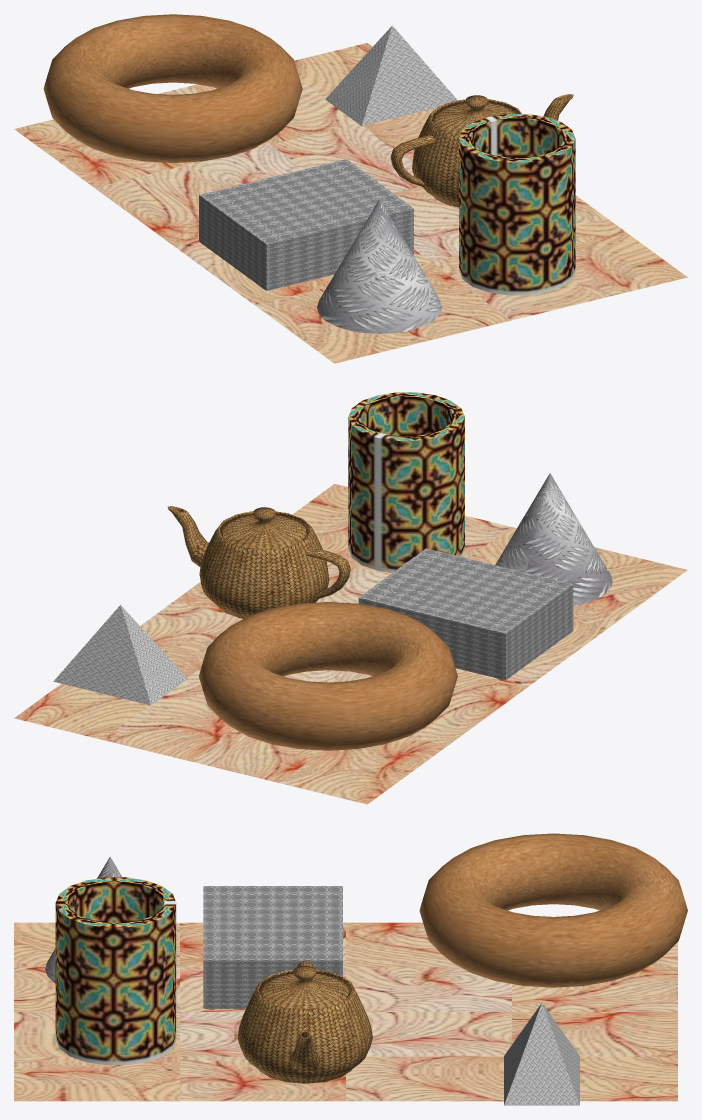
File: escena3.dae
3 renders of one model, top to bottom at view 1: azimuth 30°, elevation 25°; view 2: azimuth 150°, elevation 25°; view 3: azimuth 270°, elevation 25°, orthographic. The views are drawn at different scales.
Visible parts, largest first — view 1: Plane002, Torus002, Tube002, Box002, Cone002, Pyramid002, Teapot002; view 2: Plane002, Torus002, Tube002, Box002, Teapot002, Cone002, Pyramid002; view 3: Plane002, Torus002, Tube002, Box002, Teapot002, Pyramid002, Cone002.
Part boxes in pixels (x1,y1,x2,y2): Plane002: (14, 43, 687, 363); Torus002: (43, 14, 302, 162); Tube002: (459, 114, 575, 295); Box002: (199, 159, 413, 290); Cone002: (317, 199, 442, 333); Pyramid002: (325, 25, 457, 125); Teapot002: (390, 94, 573, 207); Plane002: (14, 483, 687, 804); Torus002: (198, 602, 457, 750); Tube002: (348, 392, 464, 572); Box002: (358, 548, 573, 680); Teapot002: (167, 506, 350, 618); Cone002: (495, 473, 612, 605); Pyramid002: (53, 605, 187, 705); Plane002: (14, 922, 677, 1101); Torus002: (419, 833, 687, 987); Tube002: (55, 877, 176, 1064); Box002: (203, 886, 342, 1008); Teapot002: (237, 961, 372, 1083); Pyramid002: (504, 1003, 579, 1105); Cone002: (45, 856, 122, 983).
Size of the model in its own units: 7.66 by 2.47 by 10.99.
